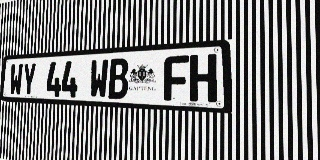4: (61, 61, 78, 98), (46, 61, 62, 97)
B: (108, 58, 129, 99)
F: (164, 55, 189, 101)
H: (189, 54, 217, 102)
W: (89, 59, 109, 99), (9, 63, 23, 96)
Y: (22, 63, 36, 96)
